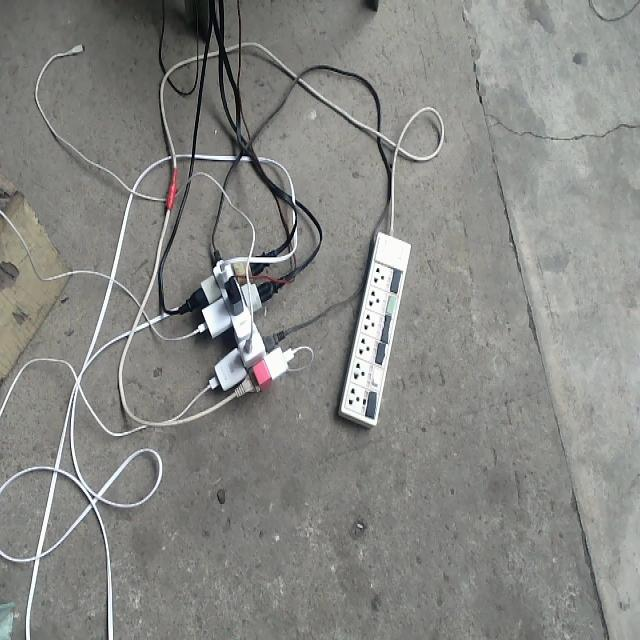-: (182, 242, 296, 402)
